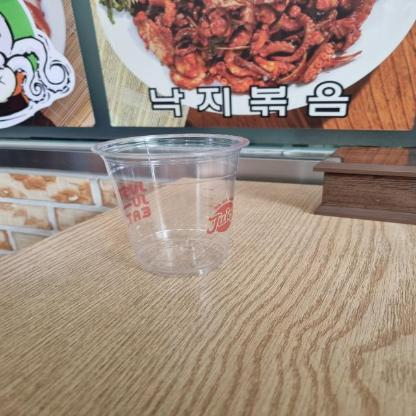Others: (88, 131, 252, 277)
